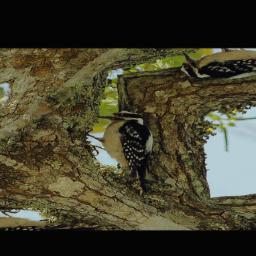Woodpecker: (45, 100, 217, 196)
